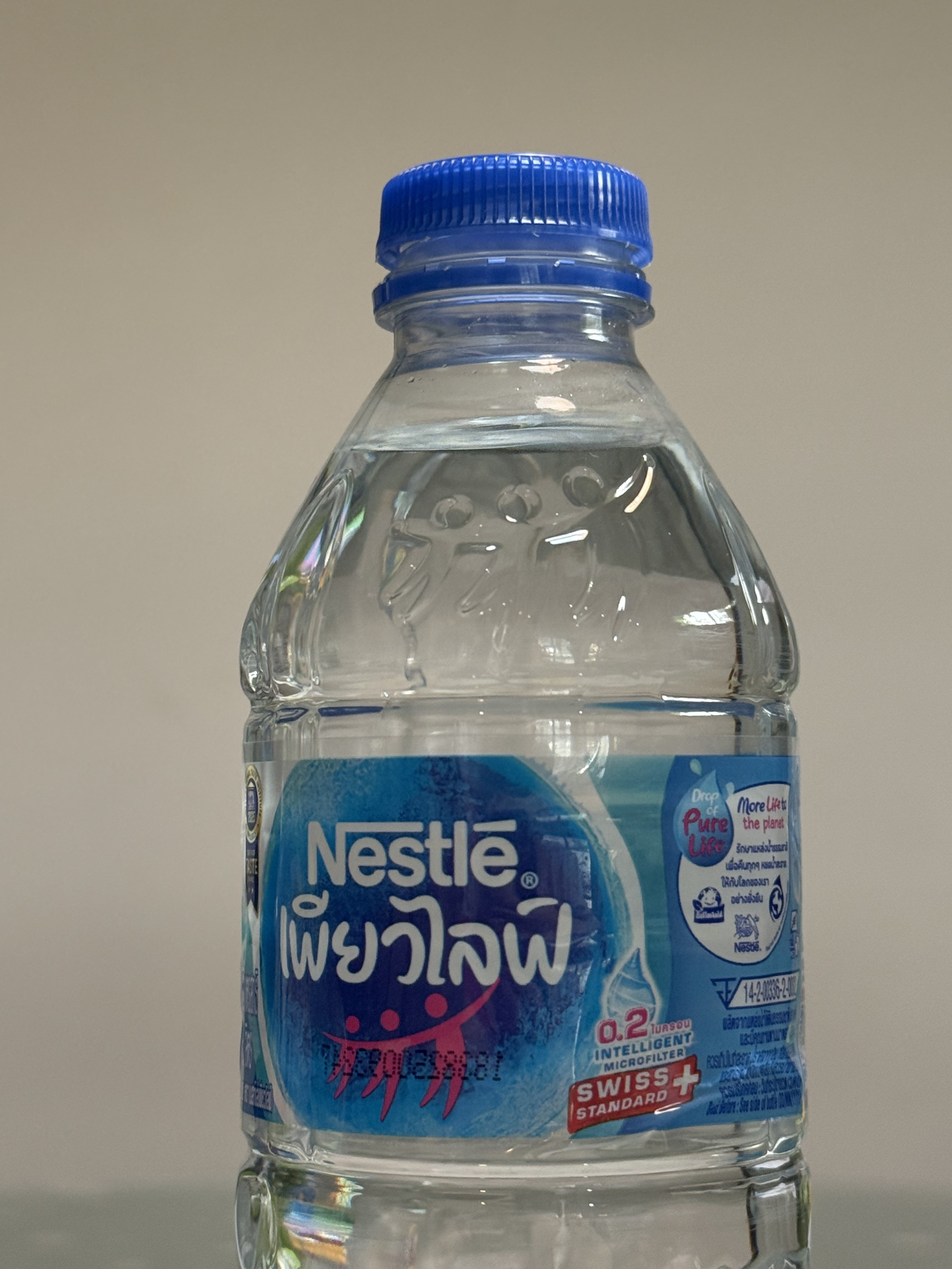half_cap: (365, 146, 660, 329)
